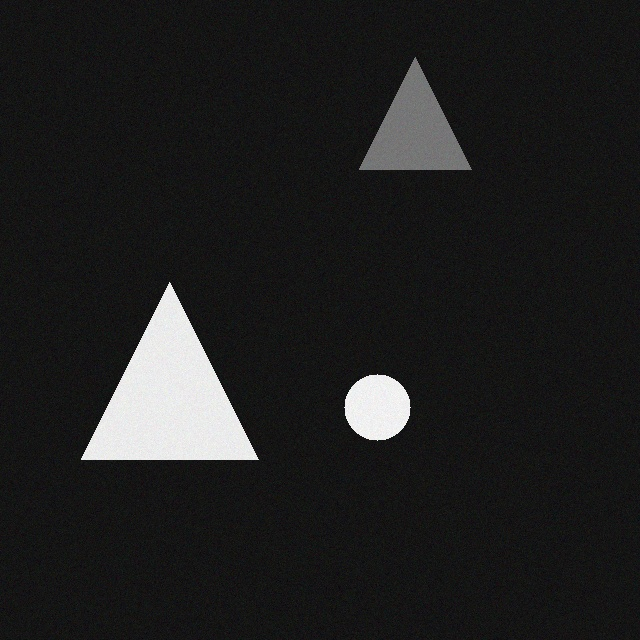circle: (347, 384, 413, 450)
triangle: (84, 292, 261, 469), (362, 67, 474, 179)
